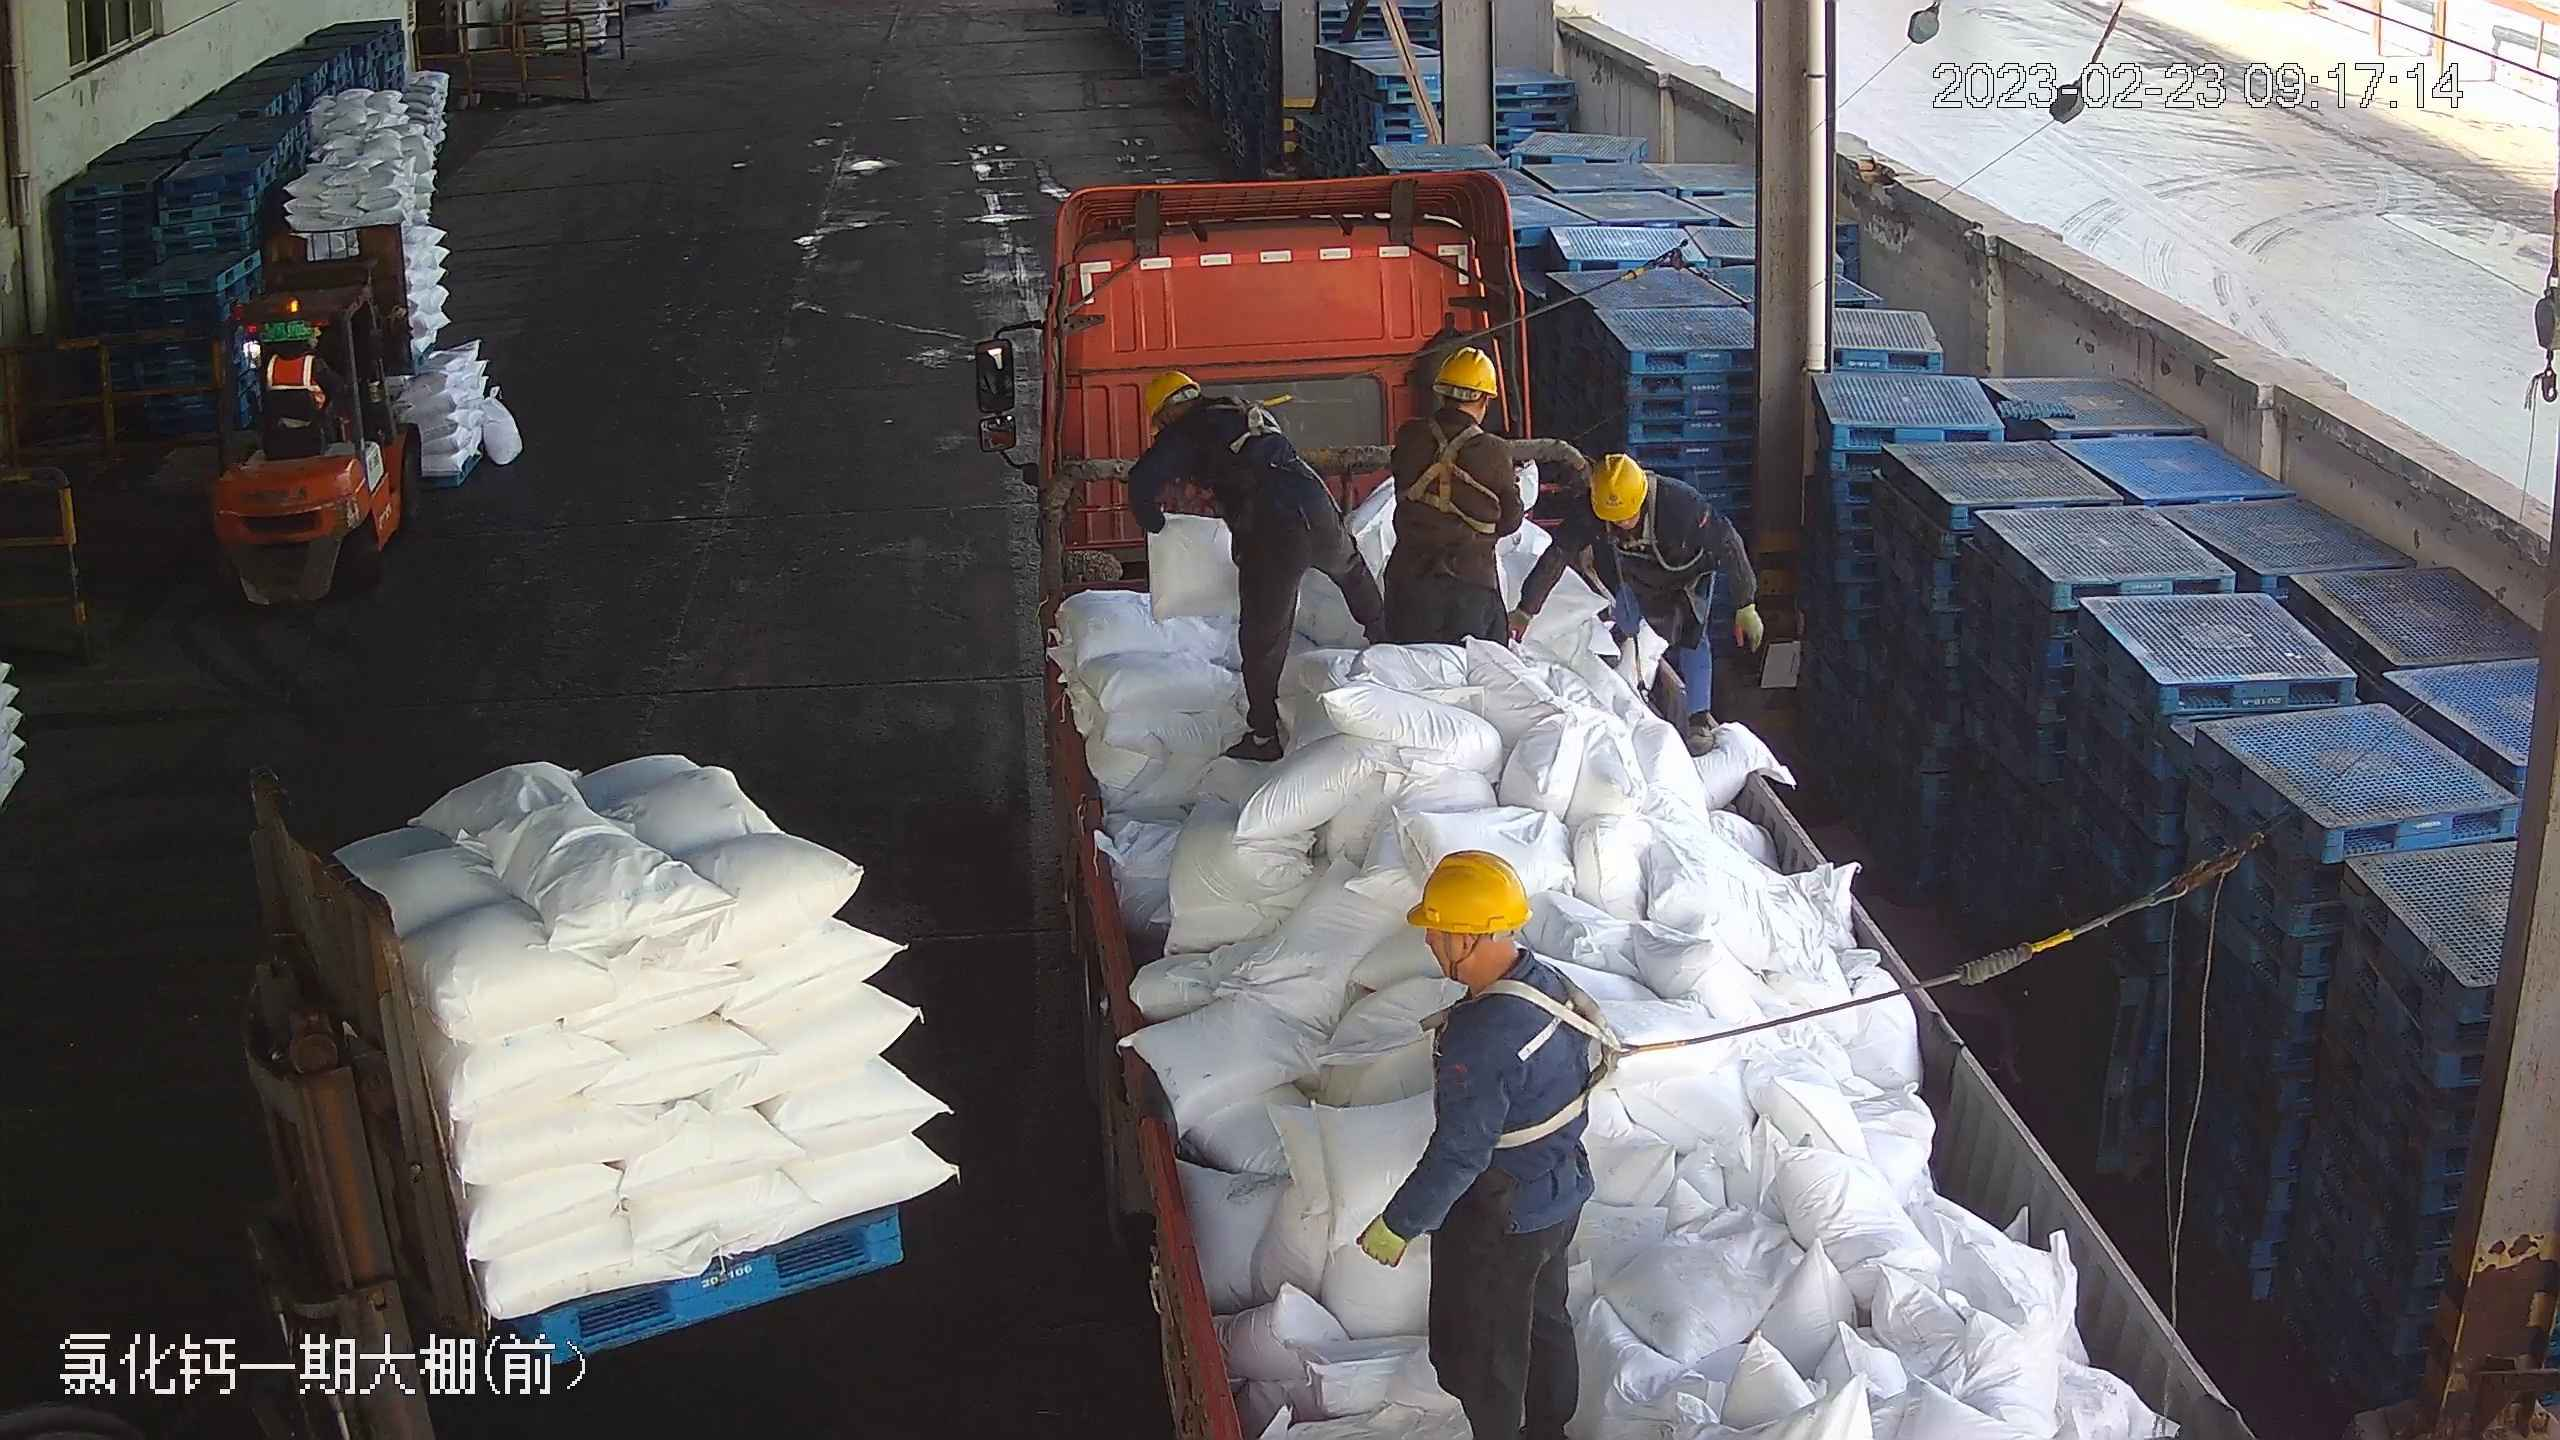belt: (1480, 974, 1678, 1138), (1409, 419, 1497, 524), (1201, 394, 1300, 467), (1608, 476, 1677, 574)
head: (1396, 848, 1587, 1090), (1405, 347, 1519, 473), (1572, 453, 1693, 564), (1139, 370, 1258, 461)
helmet: (1401, 847, 1532, 932), (1586, 451, 1651, 521), (1431, 343, 1504, 394), (1140, 368, 1200, 420)
people: (1360, 836, 1601, 1440), (1127, 370, 1385, 765), (1511, 450, 1764, 768), (1384, 353, 1524, 655)
truck: (984, 177, 2252, 1440)
